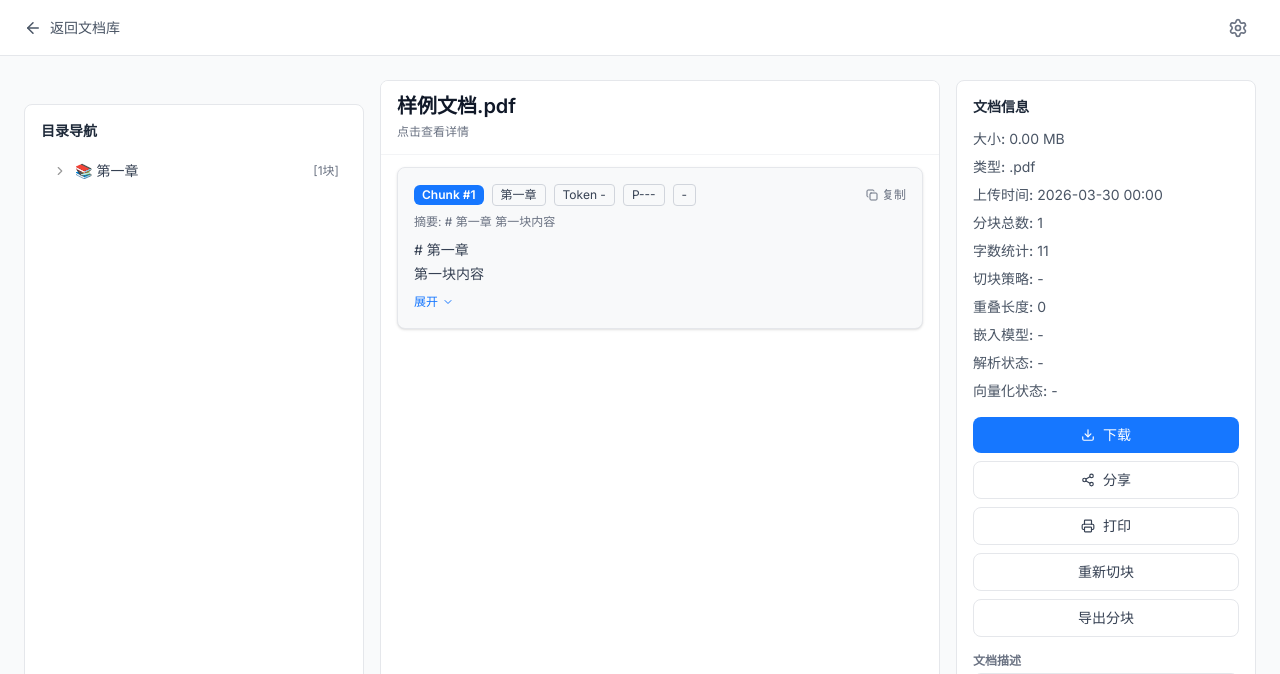
Test: DocumentDetailPanel › shows copied reminder after copying chunk content
The image size is (1280, 674).
Click the button "复制".
click(886, 195)  # box [866,187,906,203]
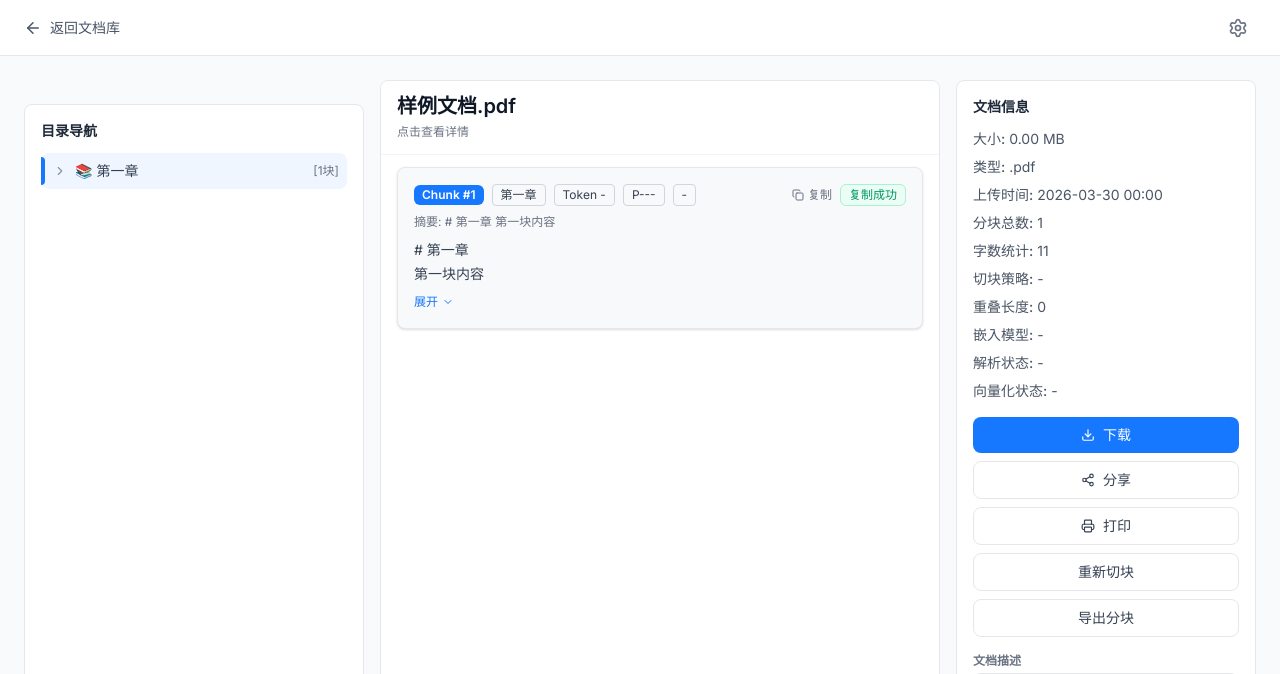
Expected: the text "复制成功" is shown, [840,184,906,206]
